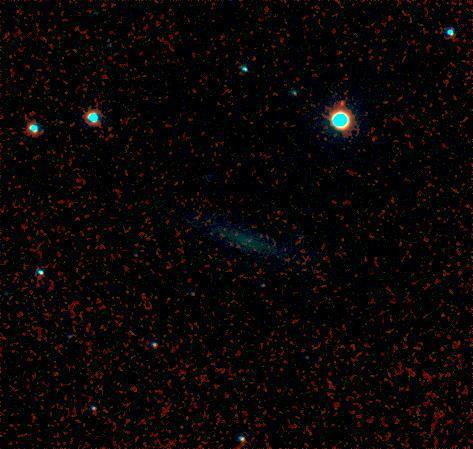star: (330, 91, 360, 121)
